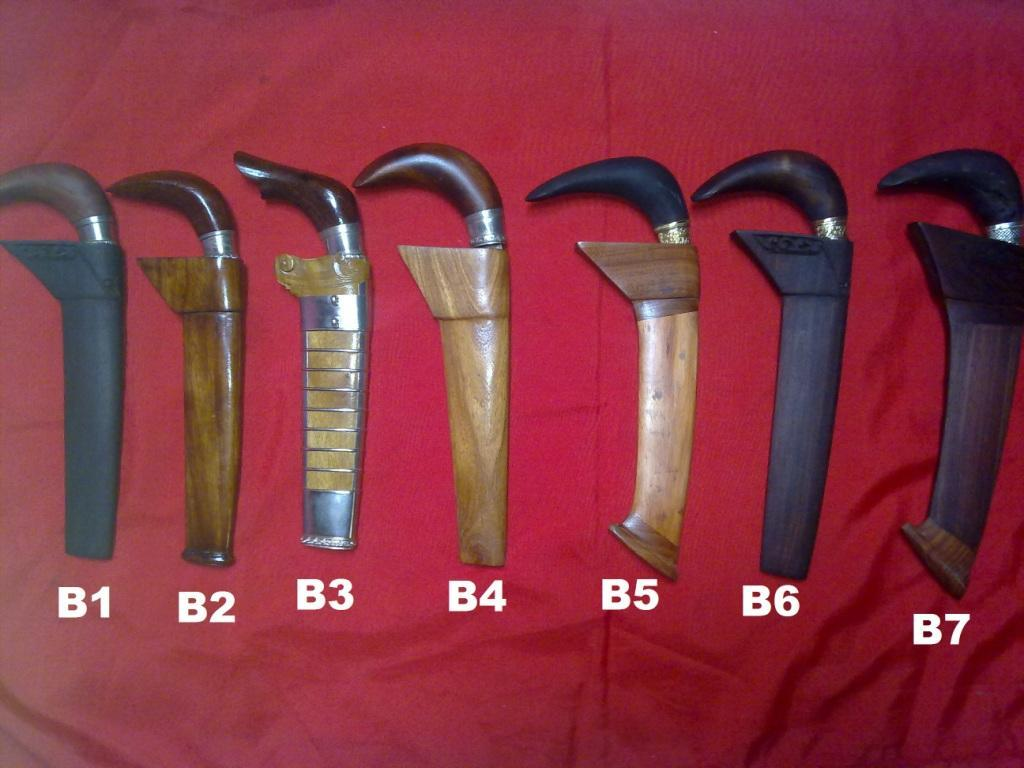facao: (525, 157, 699, 580), (693, 150, 852, 579), (352, 144, 510, 566), (877, 149, 1023, 597), (234, 152, 370, 549), (109, 172, 245, 566)
